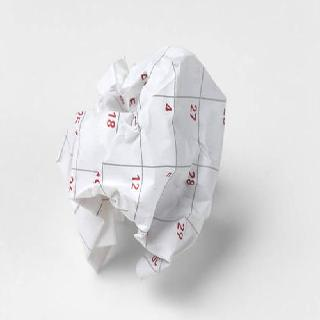8/可回收垃圾/纸: (54, 45, 228, 283)
